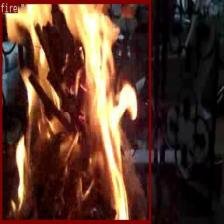fire: (0, 0, 150, 222)
